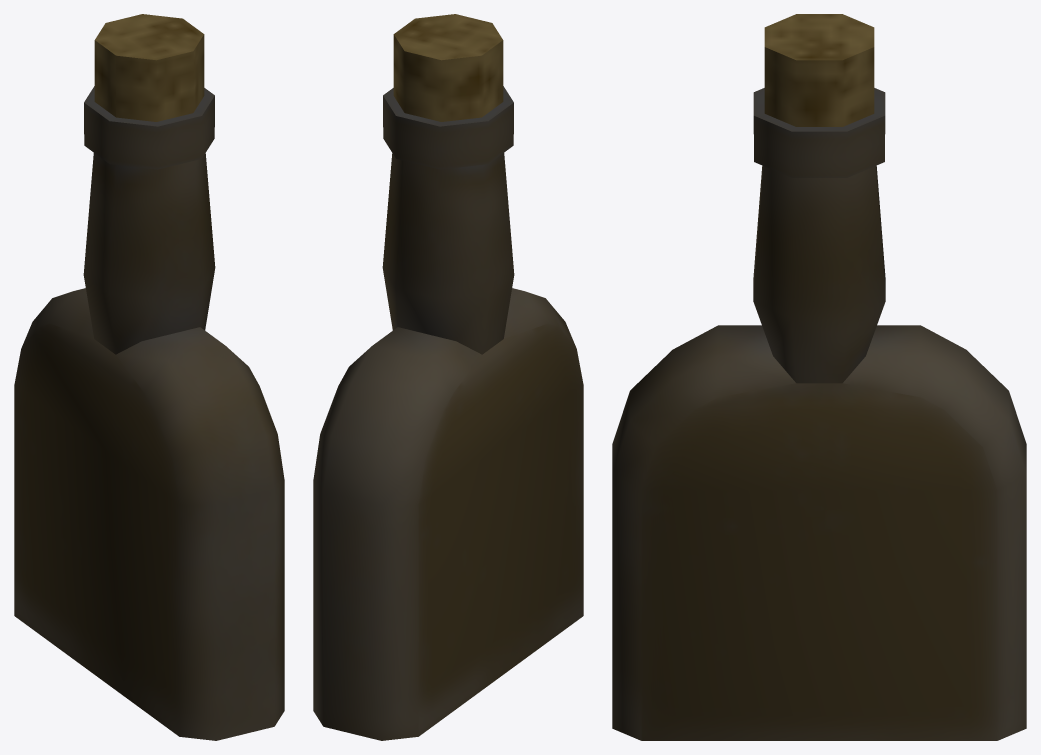
Rendered from BOTTLE_2_low.fbx.
The picture shows the model from 3 angles, left to right: view 1: azimuth 30°, elevation 25°; view 2: azimuth 150°, elevation 25°; view 3: azimuth 270°, elevation 25°; orthographic projection. The views are drawn at different scales.
Visible parts, largest first — view 1: BOTTLE_2_low; view 2: BOTTLE_2_low; view 3: BOTTLE_2_low.
Boxes of the visible parts, x1,y1,x2,y2 form: BOTTLE_2_low: [14, 14, 284, 740]; BOTTLE_2_low: [313, 14, 583, 740]; BOTTLE_2_low: [612, 14, 1026, 740].
Bounding box in the file's own units: 4.28 × 24.19 × 13.43.
